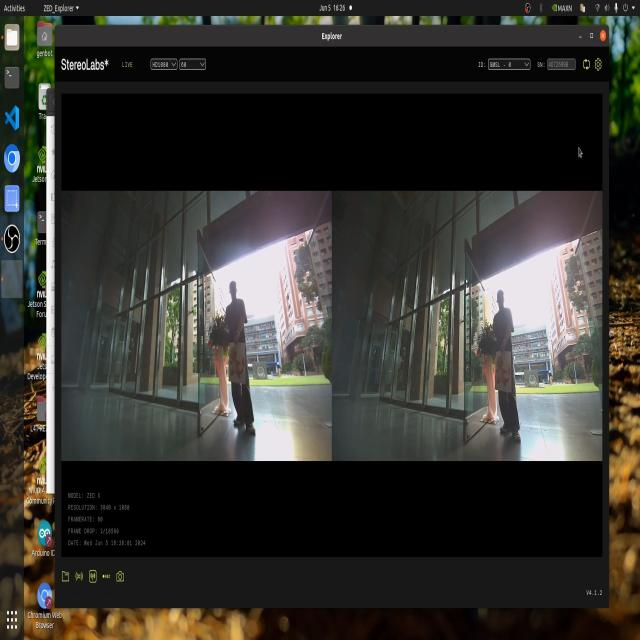red: (494, 355, 512, 396), (228, 341, 240, 384)
